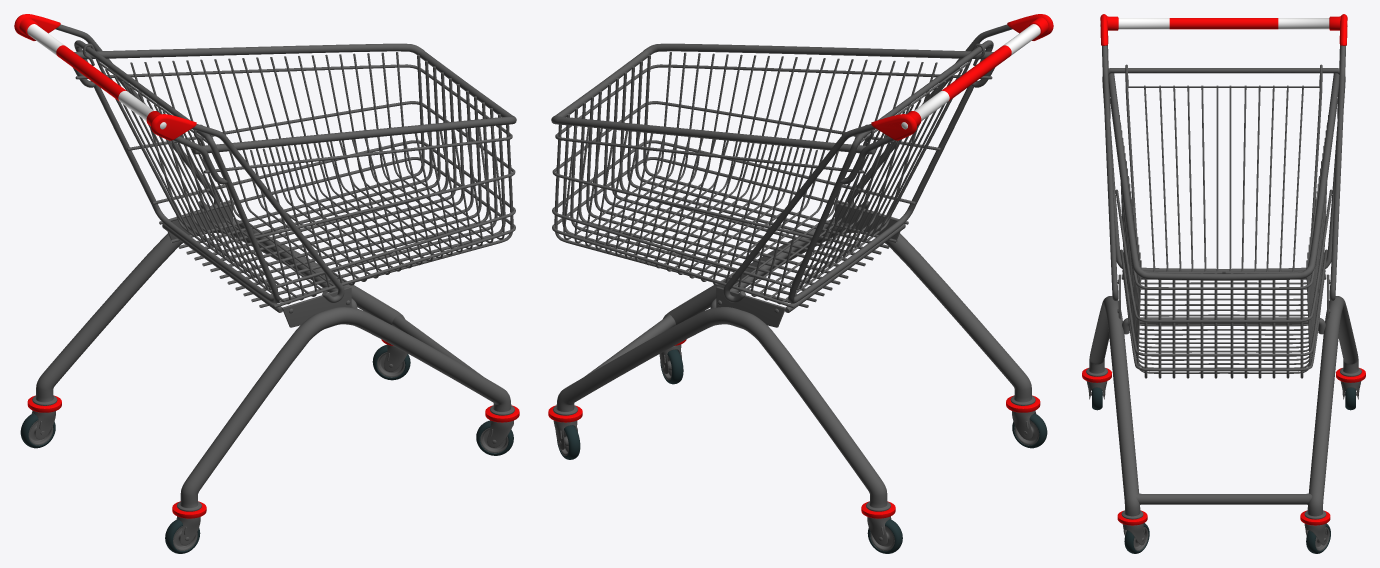
3 renders of one model, left to right at view 1: azimuth 30°, elevation 25°; view 2: azimuth 150°, elevation 25°; view 3: azimuth 270°, elevation 25°, orthographic. The views are drawn at different scales.
Parts seen in each view (by area): view 1: 3D学院 模型无限; view 2: 3D学院 模型无限; view 3: 3D学院 模型无限.
Part boxes in pixels (x1=…): 3D学院 模型无限: x1=14, y1=14, x2=519, y2=553; 3D学院 模型无限: x1=548, y1=14, x2=1053, y2=553; 3D学院 模型无限: x1=1082, y1=14, x2=1365, y2=553.
Size of the model in its own units: 184 by 199 by 132.
